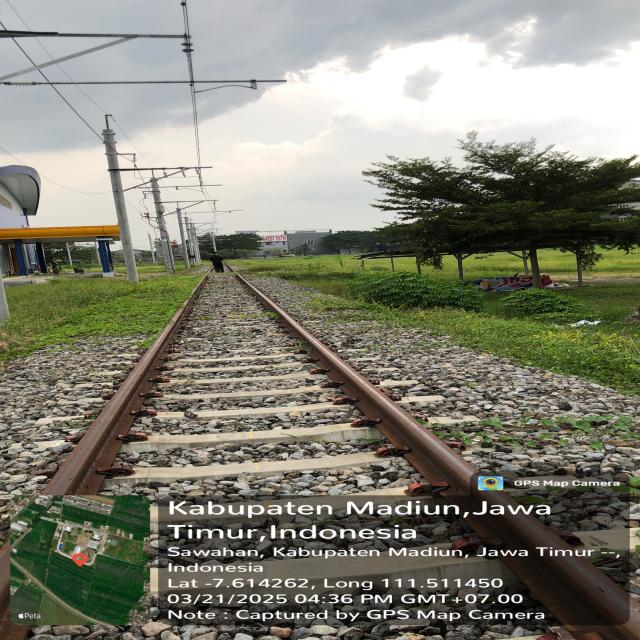rail-detection: (239, 277, 517, 510), (42, 300, 191, 495), (468, 509, 640, 640)
